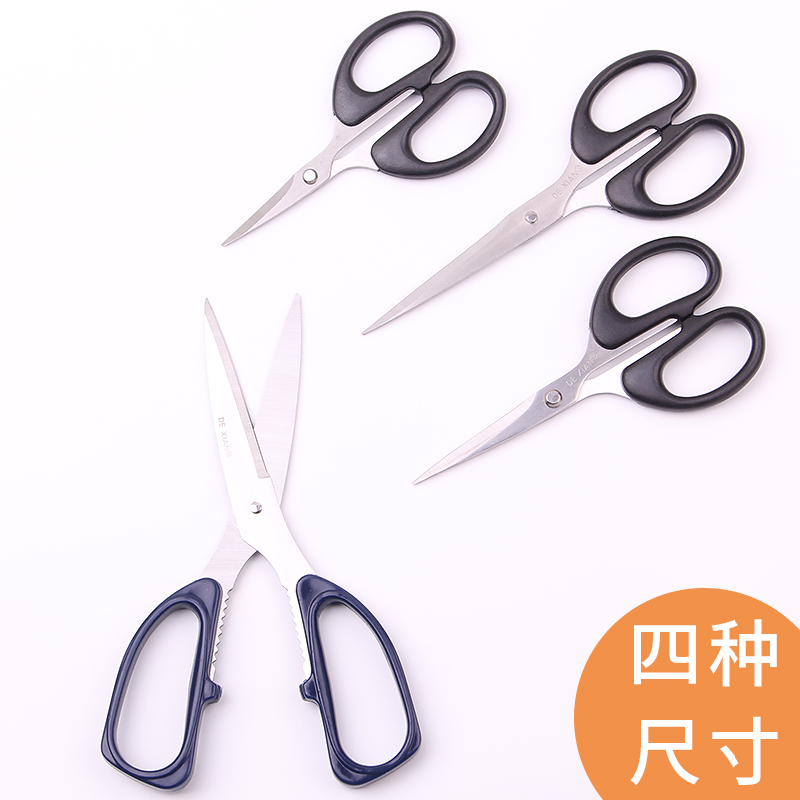scissors: (89, 274, 441, 793), (354, 48, 746, 338), (408, 227, 770, 488), (196, 5, 508, 250)
